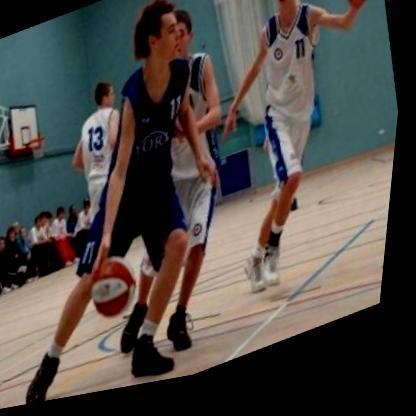basketball: (84, 254, 150, 337)
